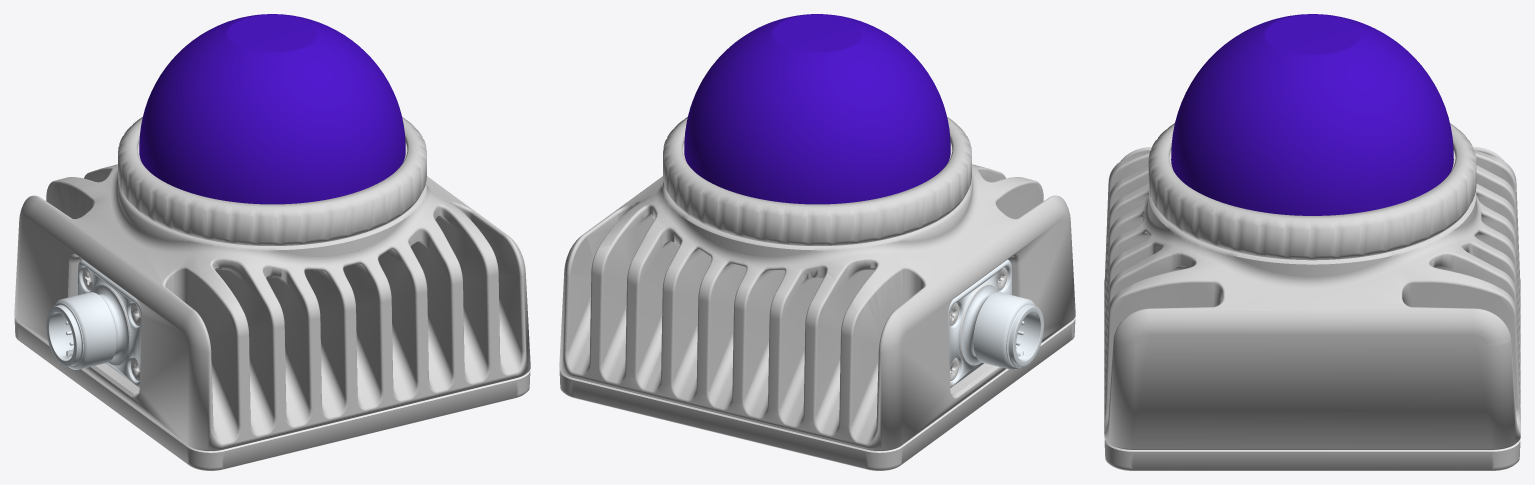
The model's file is livox_mid360.dae.
The picture shows the model from 3 angles, left to right: view 1: azimuth 30°, elevation 25°; view 2: azimuth 150°, elevation 25°; view 3: azimuth 270°, elevation 25°; orthographic projection. The views are drawn at different scales.
Visible parts, largest first — view 1: node_e7abb906_2681_41f6_a37e_ef40ccdca654_mesh0, node_e7abb906_2681_41f6_a37e_ef40ccdca654_mesh3, node_e7abb906_2681_41f6_a37e_ef40ccdca654_mesh6, node_e7abb906_2681_41f6_a37e_ef40ccdca654_mesh1, node_e7abb906_2681_41f6_a37e_ef40ccdca654_mesh5, node_e7abb906_2681_41f6_a37e_ef40ccdca654_mesh4; view 2: node_e7abb906_2681_41f6_a37e_ef40ccdca654_mesh0, node_e7abb906_2681_41f6_a37e_ef40ccdca654_mesh6, node_e7abb906_2681_41f6_a37e_ef40ccdca654_mesh3, node_e7abb906_2681_41f6_a37e_ef40ccdca654_mesh1, node_e7abb906_2681_41f6_a37e_ef40ccdca654_mesh5, node_e7abb906_2681_41f6_a37e_ef40ccdca654_mesh4; view 3: node_e7abb906_2681_41f6_a37e_ef40ccdca654_mesh0, node_e7abb906_2681_41f6_a37e_ef40ccdca654_mesh6, node_e7abb906_2681_41f6_a37e_ef40ccdca654_mesh3, node_e7abb906_2681_41f6_a37e_ef40ccdca654_mesh1, node_e7abb906_2681_41f6_a37e_ef40ccdca654_mesh4.
Boxes of the visible parts, x1,y1,x2,y2 form: node_e7abb906_2681_41f6_a37e_ef40ccdca654_mesh0: (14, 164, 530, 450); node_e7abb906_2681_41f6_a37e_ef40ccdca654_mesh3: (14, 117, 530, 470); node_e7abb906_2681_41f6_a37e_ef40ccdca654_mesh6: (139, 14, 405, 204); node_e7abb906_2681_41f6_a37e_ef40ccdca654_mesh1: (52, 167, 521, 419); node_e7abb906_2681_41f6_a37e_ef40ccdca654_mesh5: (46, 259, 141, 387); node_e7abb906_2681_41f6_a37e_ef40ccdca654_mesh4: (14, 142, 530, 452); node_e7abb906_2681_41f6_a37e_ef40ccdca654_mesh0: (559, 164, 1075, 450); node_e7abb906_2681_41f6_a37e_ef40ccdca654_mesh6: (684, 14, 950, 204); node_e7abb906_2681_41f6_a37e_ef40ccdca654_mesh3: (559, 117, 1075, 470); node_e7abb906_2681_41f6_a37e_ef40ccdca654_mesh1: (580, 169, 978, 444); node_e7abb906_2681_41f6_a37e_ef40ccdca654_mesh5: (948, 259, 1043, 387); node_e7abb906_2681_41f6_a37e_ef40ccdca654_mesh4: (559, 143, 1075, 452); node_e7abb906_2681_41f6_a37e_ef40ccdca654_mesh0: (1104, 147, 1520, 448); node_e7abb906_2681_41f6_a37e_ef40ccdca654_mesh6: (1171, 14, 1453, 215); node_e7abb906_2681_41f6_a37e_ef40ccdca654_mesh3: (1104, 123, 1520, 470); node_e7abb906_2681_41f6_a37e_ef40ccdca654_mesh1: (1104, 151, 1520, 431); node_e7abb906_2681_41f6_a37e_ef40ccdca654_mesh4: (1104, 150, 1520, 451).
Size of the model in its own units: 0.0727 by 0.0649 by 0.0601.
